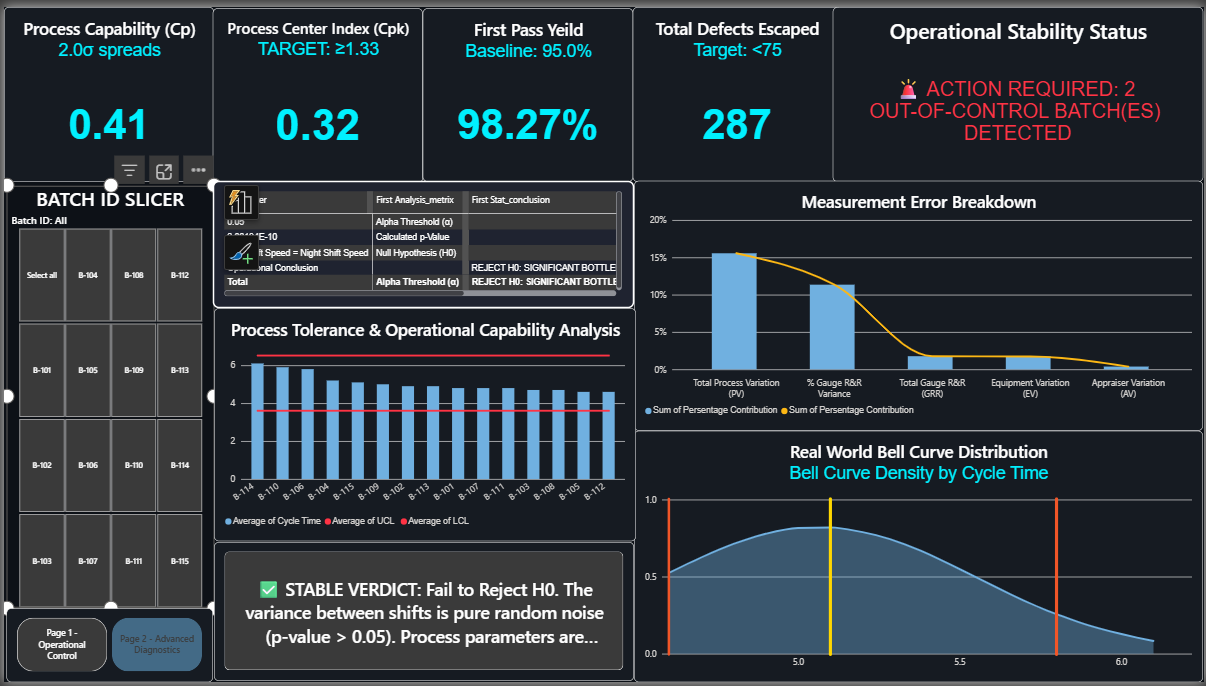

The page's visual inventory and layout, read from the dashboard file:
{"tool":"powerbi","page":{"name":"Page 2 - Advanced Diagnostics","canvas":[1920,1080],"ordinal":1},"visuals":[{"type":"card","title":"Process Capability (Cp)","fields":{"Values":["Clean_Production_Log.Cp_Metric"]},"box":[0,0,336.4,280.3],"z":0},{"type":"card","title":"Process Center Index (Cpk)","fields":{"Values":["Clean_Production_Log.Cpk_Metric"]},"box":[333.7,2.7,336.4,280.3],"z":1000},{"type":"card","title":"First Pass Yeild ","fields":{"Values":["Clean_Production_Log.FPY_Yield"]},"box":[669.9,2.1,337.1,277.3],"z":2000},{"type":"card","title":"Total Defects Escaped","fields":{"Values":["Sum(Clean_Production_Log.Defects Found)"]},"box":[1006.5,0,333.7,280.3],"z":3000},{"type":"card","title":"Operational Stability Status","fields":{"Values":["Clean_Production_Log.OCAP_Status"]},"box":[1326.8,0,592.7,280.3],"z":4000},{"type":"slicer","title":"BATCH ID SLICER","fields":{"Values":["Clean_Production_Log.Batch ID"]},"box":[4,286,332,676],"z":5000},{"type":"areaChart","title":"Real World Bell Curve Distribution","fields":{"Category":["Clean_Production_Log.Cycle Time"],"Y":["Clean_Production_Log.Bell Curve Density"]},"box":[1008,678,910,402],"z":6000},{"type":"lineClusteredColumnComboChart","title":"Measurement Error Breakdown","fields":{"Category":["ANOVA_TEST_RESULTS.Varience Source"],"Y":["Sum(ANOVA_TEST_RESULTS.Persentage Contribution)"],"Y2":["Sum(ANOVA_TEST_RESULTS.Persentage Contribution)"]},"box":[1008,278,910,400],"z":7000},{"type":"pivotTable","fields":{"Rows":["T_Test_result.Parameter"],"Values":["Min(T_Test_result.Analysis_metrix)","Min(T_Test_result.Stat_conclusion)"]},"box":[334,278,674,204],"z":8000},{"type":"cardVisual","fields":{"Data":["T_Test_result.Six_Sigma_Verdict"]},"box":[336,856,672,222],"z":9000},{"type":"lineStackedColumnComboChart","title":"Process Tolerance & Operational Capability Analysis","fields":{"Category":["Clean_Production_Log.Batch ID"],"Y":["Avg(Clean_Production_Log.Cycle Time)"],"Y2":["Avg(Clean_Production_Log.UCL )","Avg(Clean_Production_Log.LCL)"]},"box":[335,482.5,675,372.5],"z":10000},{"type":"pageNavigator","box":[4,962,330,118],"z":11000}]}

Visuals, with their boxes in screenshot pixels (x1, y1, x2, y2), scaled from the page's 1920x1080 canvas onto the 1206x686 screenshot:
"Process Capability (Cp)" card: x1=0 y1=0 x2=211 y2=178
"Process Center Index (Cpk)" card: x1=210 y1=2 x2=421 y2=180
"First Pass Yeild " card: x1=421 y1=1 x2=633 y2=177
"Total Defects Escaped" card: x1=632 y1=0 x2=842 y2=178
"Operational Stability Status" card: x1=833 y1=0 x2=1205 y2=178
"BATCH ID SLICER" slicer: x1=3 y1=182 x2=211 y2=611
"Real World Bell Curve Distribution" areaChart: x1=633 y1=431 x2=1205 y2=685
"Measurement Error Breakdown" lineClusteredColumnComboChart: x1=633 y1=177 x2=1205 y2=431
pivotTable - T_Test_result.Parameter x Min(T_Test_result.Analysis_metrix): x1=210 y1=177 x2=633 y2=306
cardVisual - T_Test_result.Six_Sigma_Verdict: x1=211 y1=544 x2=633 y2=685
"Process Tolerance & Operational Capability Analysis" lineStackedColumnComboChart: x1=210 y1=306 x2=634 y2=543
pageNavigator: x1=3 y1=611 x2=210 y2=685
